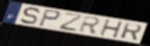H: (99, 19, 124, 39)
P: (37, 8, 62, 28)
R: (78, 15, 103, 35), (120, 22, 143, 42)
S: (19, 6, 41, 25)
Z: (58, 12, 84, 33)
